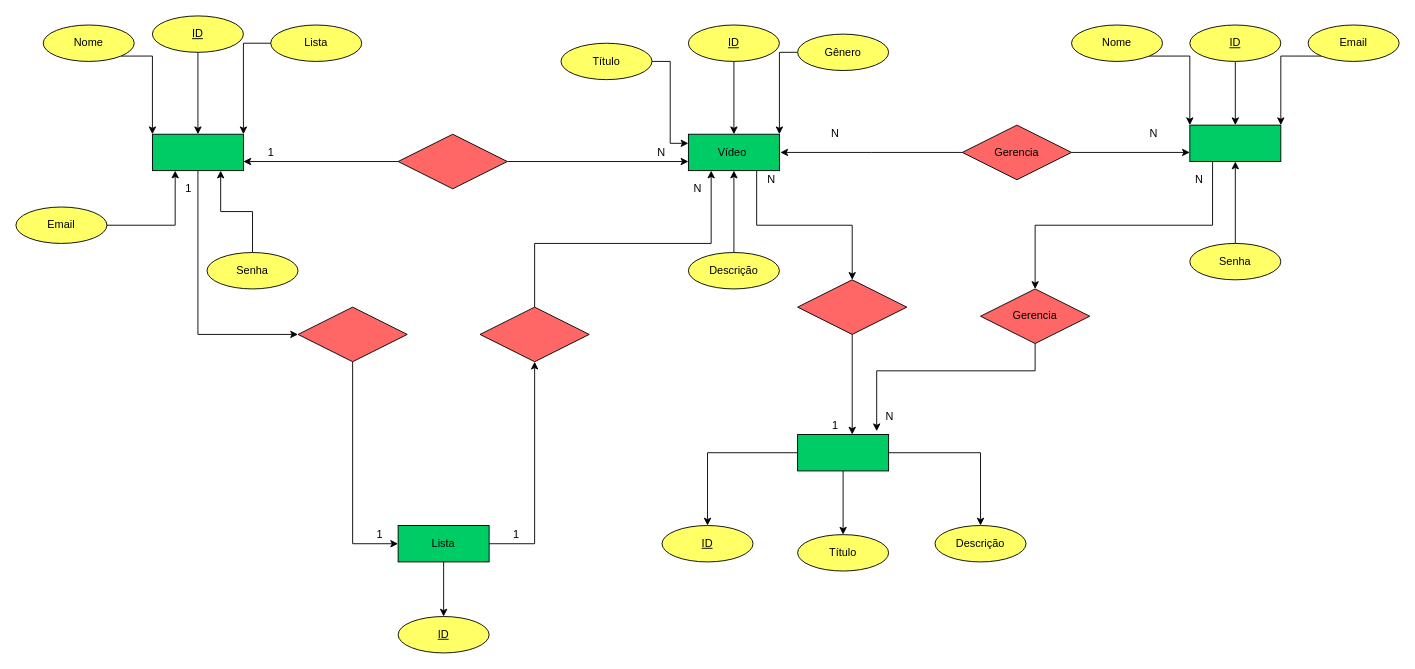
This 1415x669 diagram has some shape labels left out. Here are the shapes that lost their labels. From the top down, the box of each, then its label:
(152, 133, 243, 171): Usuário
(397, 133, 507, 189): Listar
(1189, 124, 1281, 162): Admin.
(797, 279, 907, 334): está
(297, 306, 407, 362): Criar
(479, 306, 589, 362): Contém
(797, 434, 889, 471): Série
